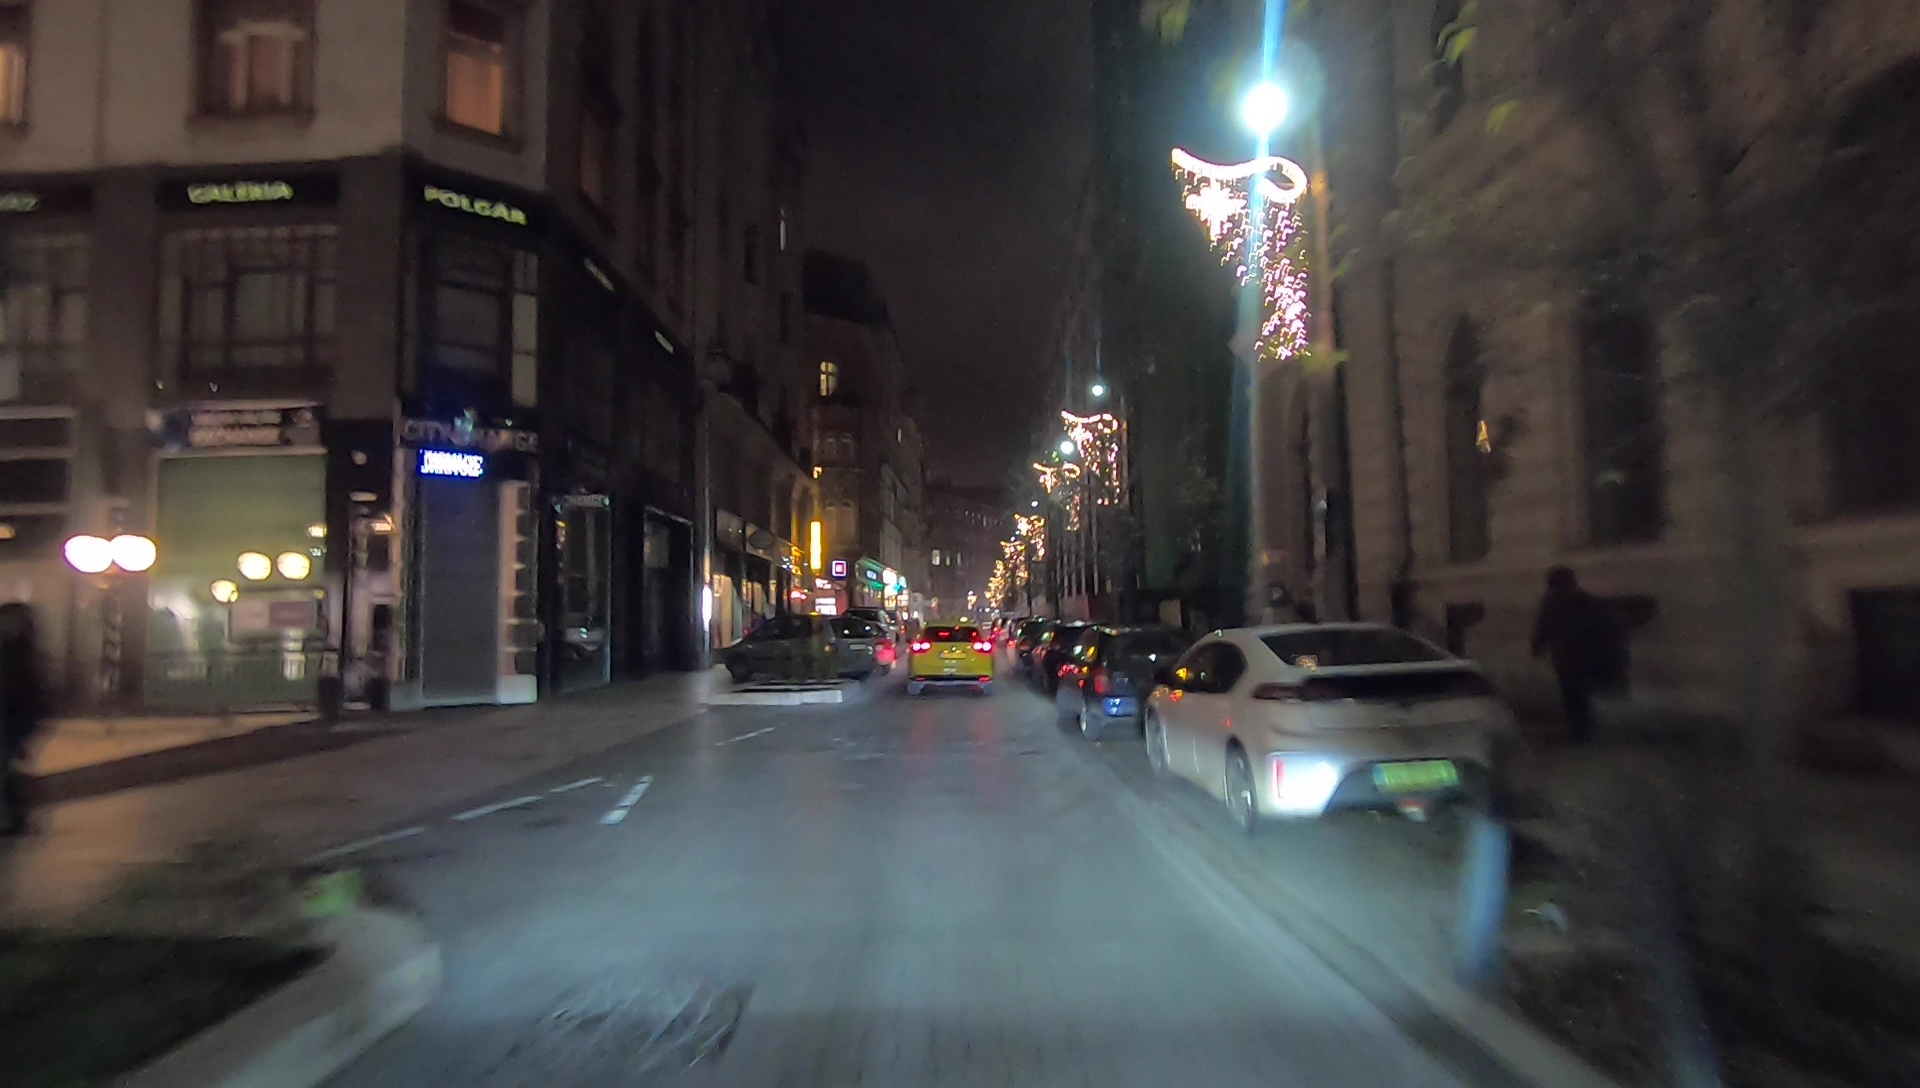person: (1532, 563, 1619, 747)
